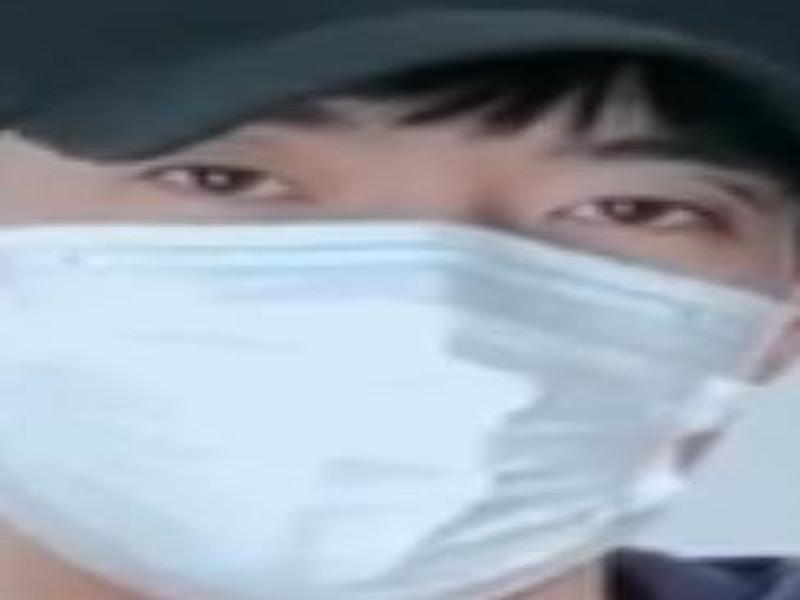with_mask: (1, 56, 793, 600)
